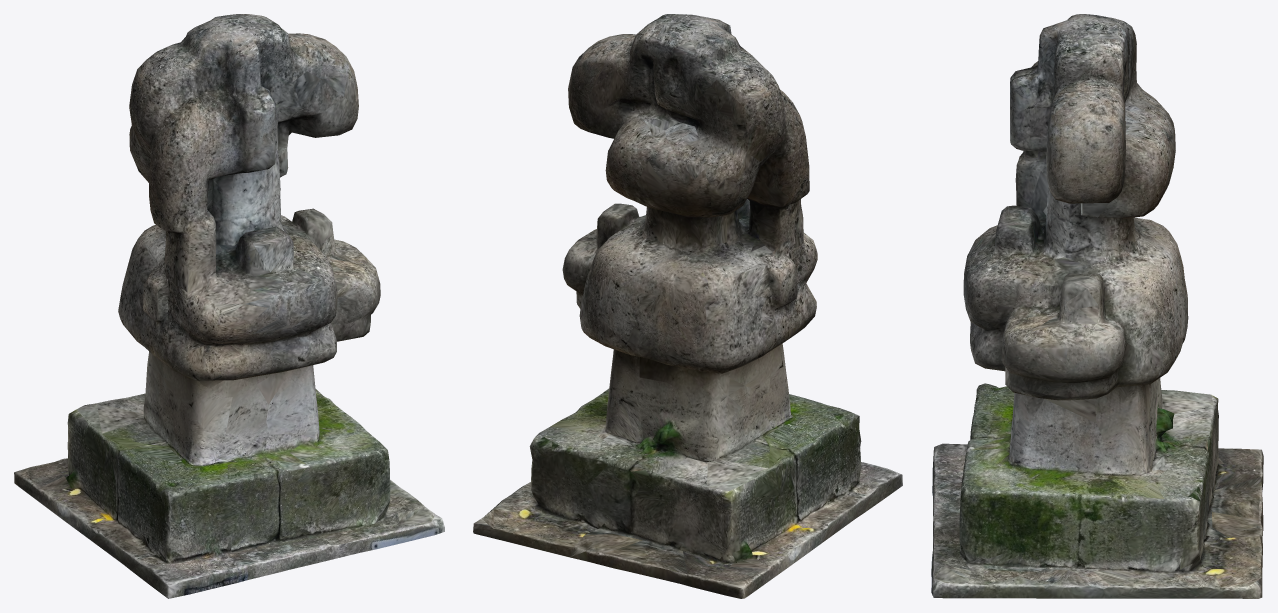
The model's file is abstract_sculpture.glb.
The picture shows the model from 3 angles, left to right: view 1: azimuth 30°, elevation 25°; view 2: azimuth 150°, elevation 25°; view 3: azimuth 270°, elevation 25°; orthographic projection. The views are drawn at different scales.
Parts seen in each view (by area): view 1: Sculpture (Photoscanned); view 2: Sculpture (Photoscanned); view 3: Sculpture (Photoscanned).
Boxes of the visible parts, left/top/right/bottom form: Sculpture (Photoscanned): left=14, top=14, right=444, bottom=598; Sculpture (Photoscanned): left=473, top=14, right=902, bottom=598; Sculpture (Photoscanned): left=931, top=14, right=1263, bottom=598.
Size of what is drawn, in the model's own units: 0.7962 by 1.33 by 0.7942.
Materials: 1 (1 with a texture image).
